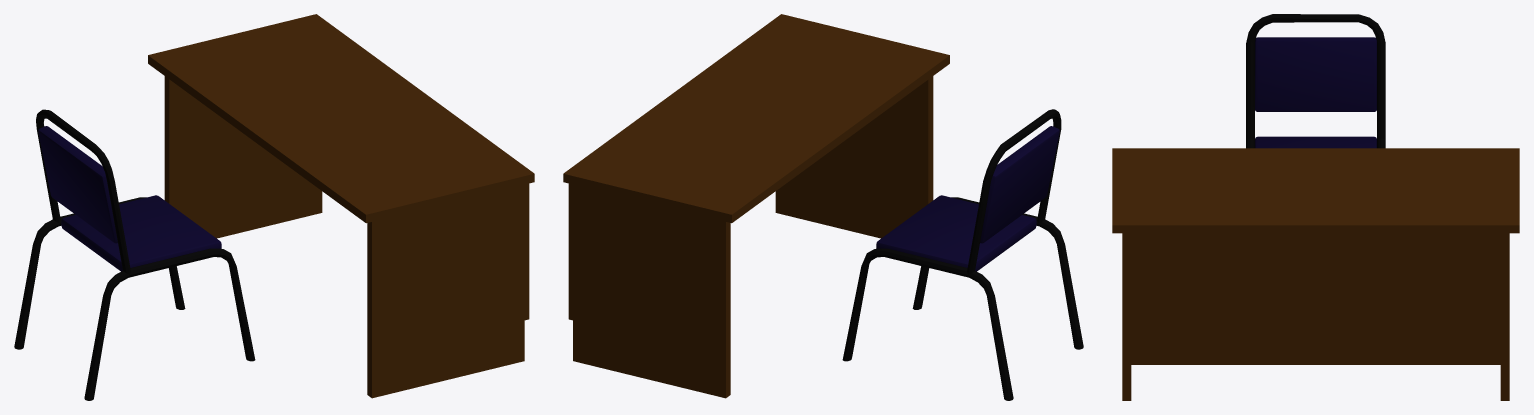
The model's file is table.fbx.
3 renders of one model, left to right at view 1: azimuth 30°, elevation 25°; view 2: azimuth 150°, elevation 25°; view 3: azimuth 270°, elevation 25°, orthographic. The views are drawn at different scales.
Visible parts, largest first — view 1: Table, Chair; view 2: Table, Chair; view 3: Table, Chair.
Part boxes in pixels (<box>): Table: <box>148,14,534,398</box>; Chair: <box>14,109,255,400</box>; Table: <box>563,14,949,398</box>; Chair: <box>842,109,1083,400</box>; Table: <box>1112,148,1519,400</box>; Chair: <box>1246,14,1385,148</box>.
Bounding box in the file's own units: 696 × 431 × 700.
